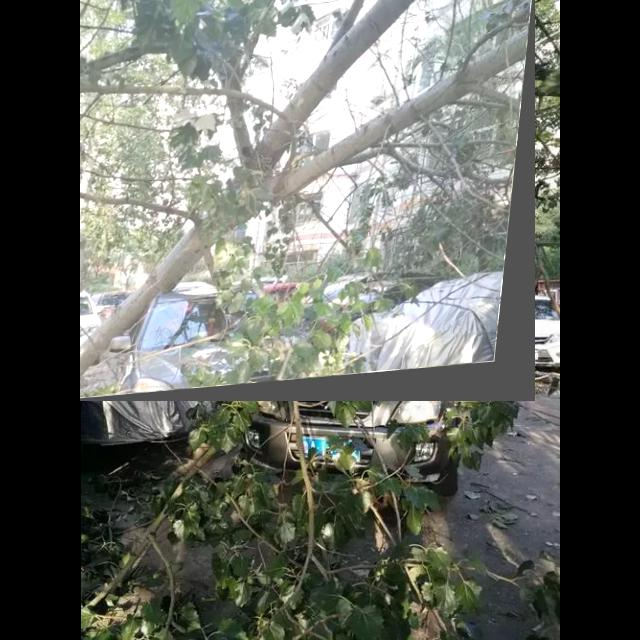Fallen Tree: (80, 0, 536, 402)
